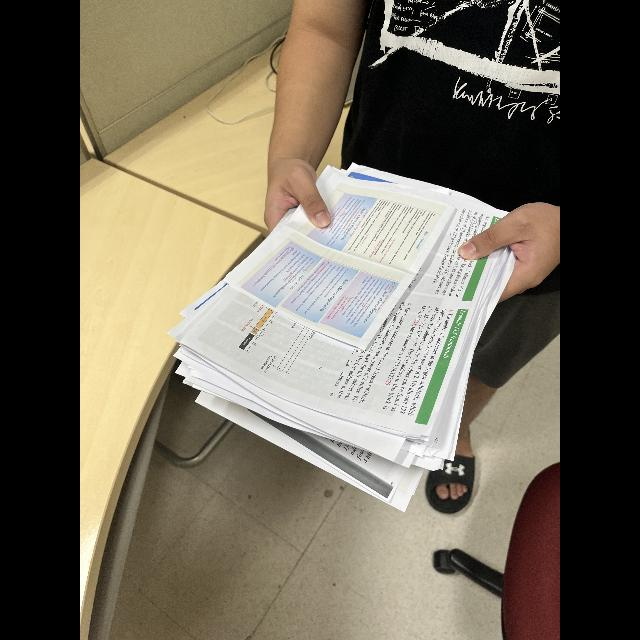reuseable_paper: (178, 155, 516, 510)
